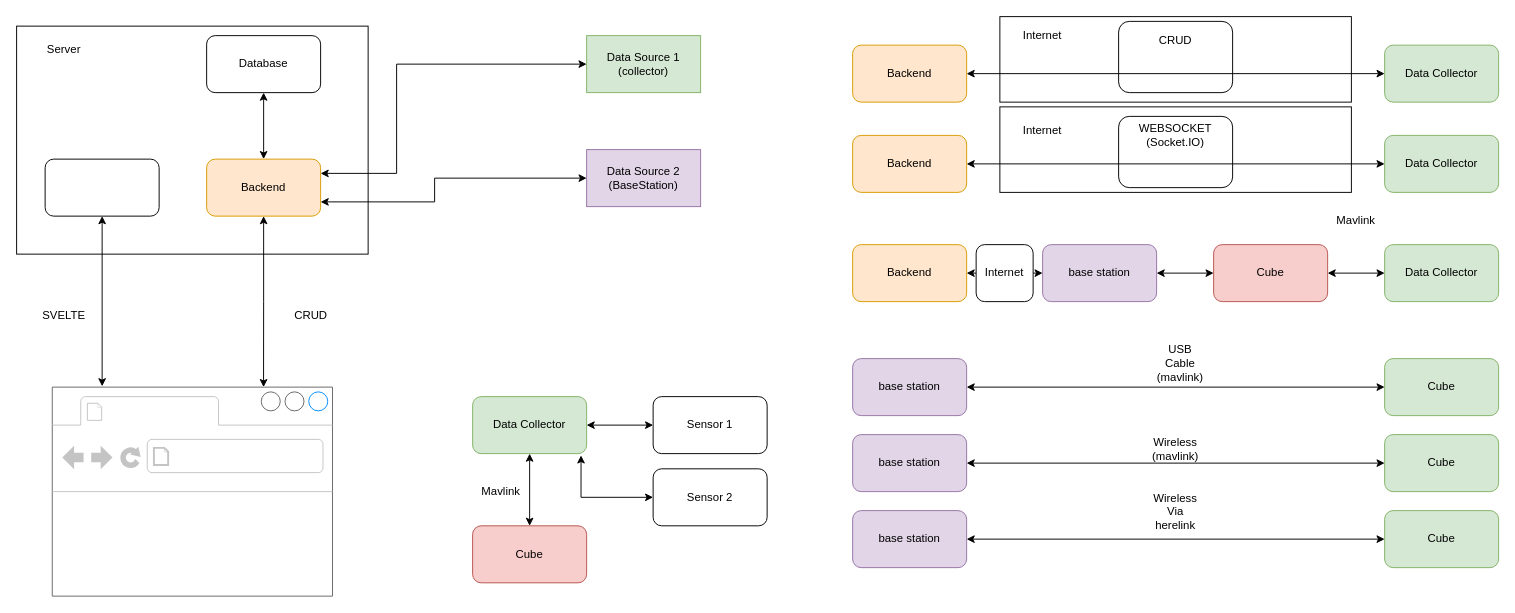
This 1515x613 diagram has some shape labels left out. The box of each missing label's shape, as (x1, y1, x2, y2) in pixels:
Frontend: (44, 158, 159, 216)
Page 1: (108, 398, 214, 423)
www.dashboard.ex: (175, 443, 413, 469)
